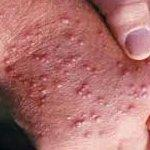Ants: (66, 107, 92, 130), (74, 81, 95, 102), (57, 55, 76, 68), (32, 51, 50, 64), (82, 62, 97, 75), (64, 30, 77, 43), (126, 104, 140, 116), (16, 74, 28, 86), (58, 15, 71, 26), (4, 58, 14, 72), (22, 31, 32, 45), (28, 76, 37, 91), (96, 97, 107, 109), (89, 112, 100, 123), (141, 85, 149, 100), (36, 73, 49, 81), (38, 95, 45, 107), (123, 68, 132, 77), (130, 85, 137, 93), (41, 88, 47, 95), (54, 84, 62, 89), (116, 61, 121, 67)
